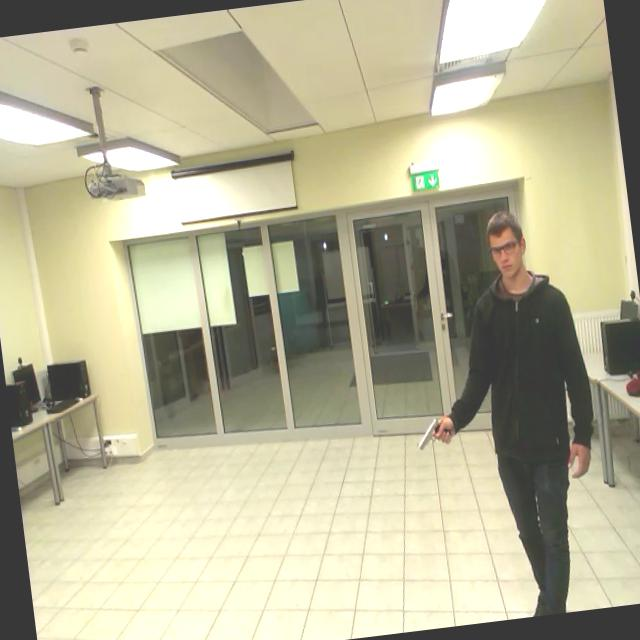handgun: (412, 405, 452, 463)
